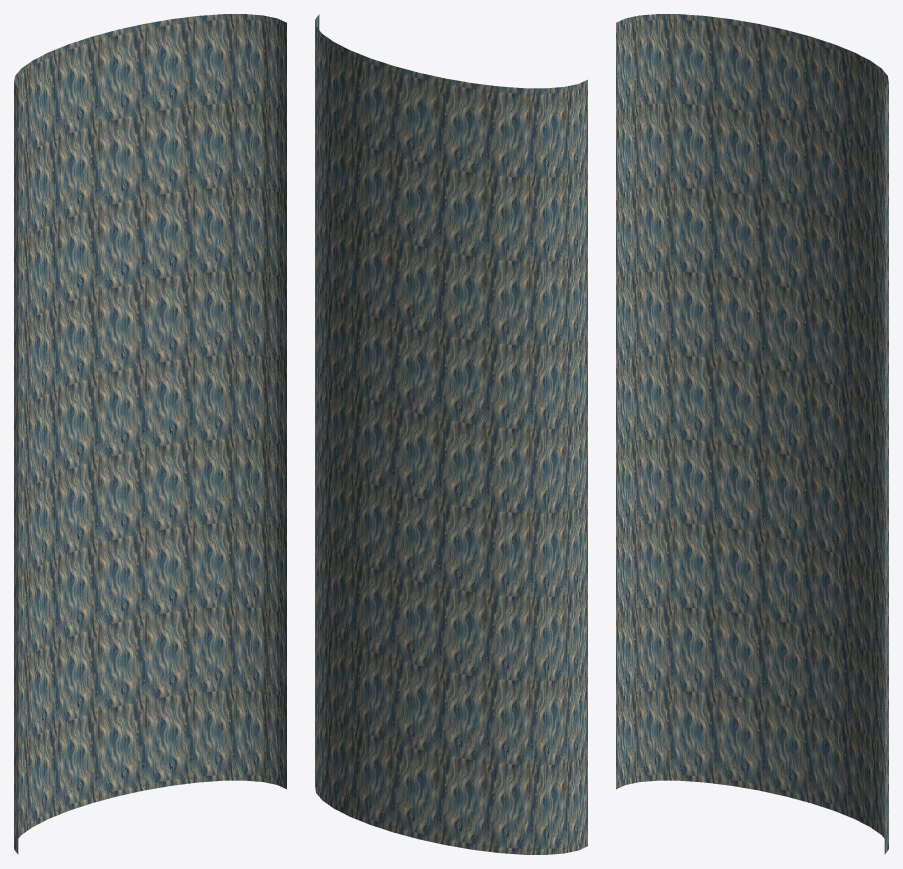
Rendered from cascade.fbx.
3 views of the same model, side by side, from view 1: azimuth 30°, elevation 25°; view 2: azimuth 150°, elevation 25°; view 3: azimuth 330°, elevation 25° (orthographic).
Parts seen in each view (by area): view 1: Cylinder.043; view 2: Cylinder.043; view 3: Cylinder.043.
Boxes of the visible parts, x1=… form: Cylinder.043: x1=14, y1=14, x2=286, y2=854; Cylinder.043: x1=315, y1=14, x2=587, y2=854; Cylinder.043: x1=616, y1=14, x2=888, y2=854.
Size of the model in its own units: 22000 by 60000 by 5000.
Materials: 1 (1 with a texture image).
